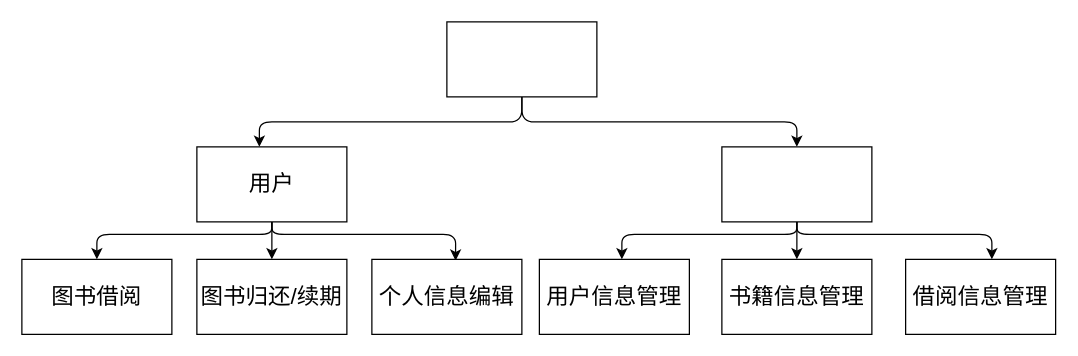
The diagram is 1078 pixels wide and 356 high, and some of its shapes have lost their labels. Here are the shapes that lost their labels. From the top down, the centre of each, then its label:
pixel 521 59: 图书借阅管理系统
pixel 796 184: 管理员
